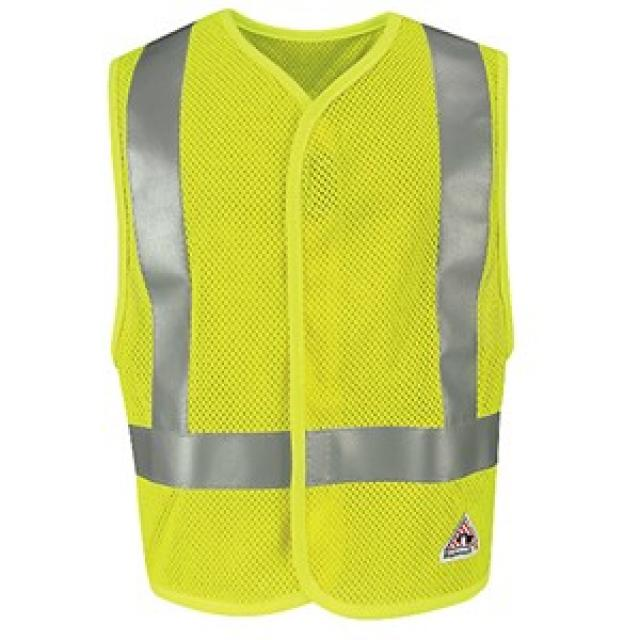Reflective-Jacket: (58, 0, 559, 640)
